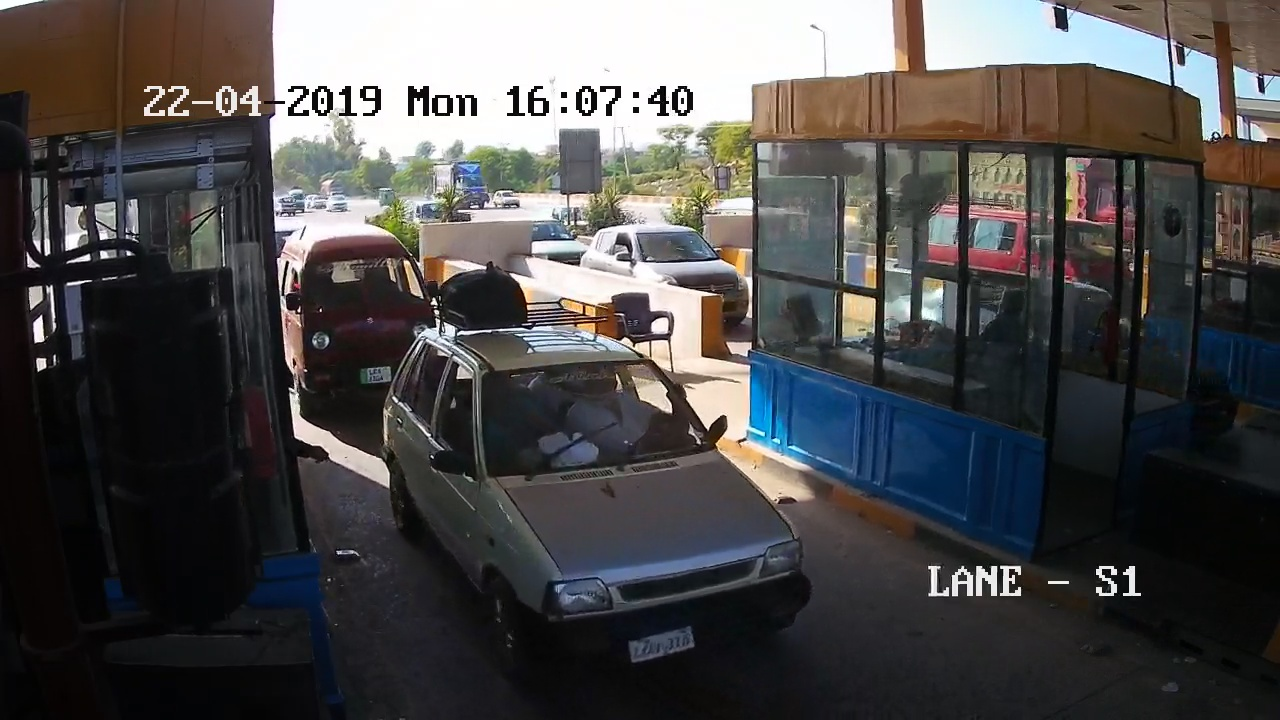Number Plate (Car): (625, 628, 694, 660), (356, 367, 392, 383)
